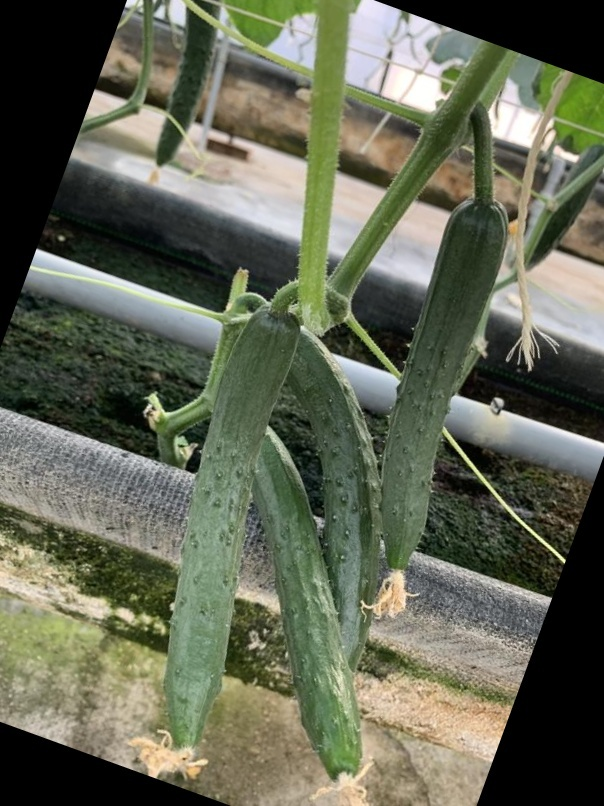mature: (154, 307, 302, 761), (378, 196, 509, 577), (251, 418, 381, 781), (285, 321, 381, 665)
